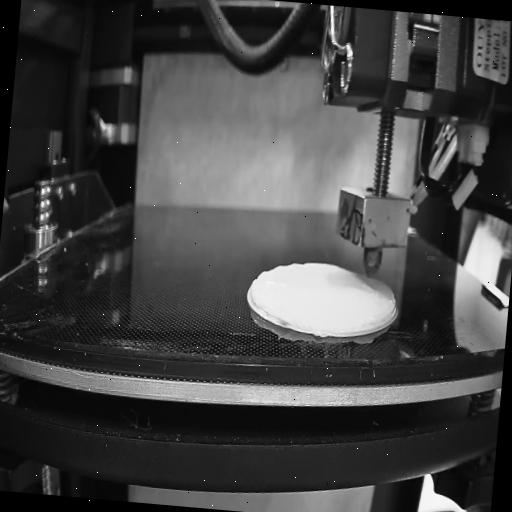over_extrusion: (376, 278, 400, 328), (248, 268, 268, 309)
